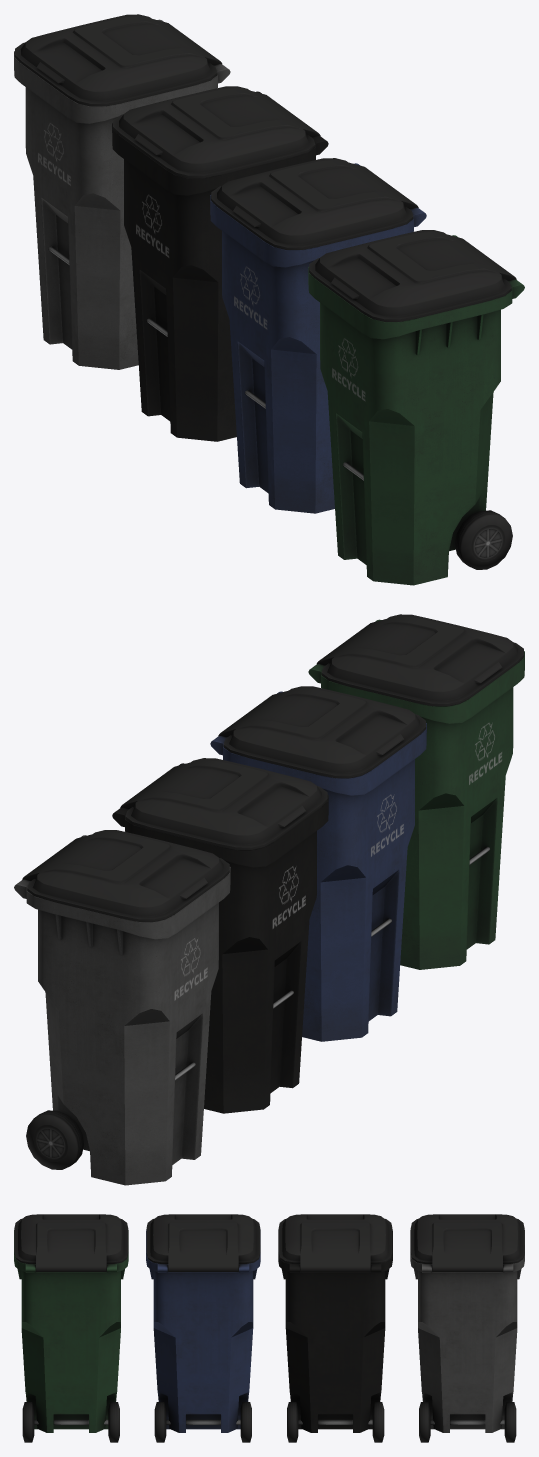
Rendered from TrashCan.fbx.
3 views of the same model, one above another, from view 1: azimuth 30°, elevation 25°; view 2: azimuth 150°, elevation 25°; view 3: azimuth 270°, elevation 25° (orthographic). The views are drawn at different scales.
Parts seen in each view (by area): view 1: TrashCan_Green, TrashCan_Grey, TrashCan_Black, TrashCan_Blue; view 2: TrashCan_Grey, TrashCan_Green, TrashCan_Blue, TrashCan_Black; view 3: TrashCan_Black, TrashCan_Blue, TrashCan_Grey, TrashCan_Green.
Boxes of the visible parts, left/top/right/bottom form: TrashCan_Green: left=308, top=230, right=524, bottom=585; TrashCan_Grey: left=14, top=14, right=230, bottom=369; TrashCan_Black: left=112, top=86, right=328, bottom=441; TrashCan_Blue: left=210, top=158, right=426, bottom=513; TrashCan_Grey: left=14, top=830, right=230, bottom=1185; TrashCan_Green: left=308, top=614, right=524, bottom=969; TrashCan_Blue: left=210, top=686, right=426, bottom=1041; TrashCan_Black: left=112, top=758, right=328, bottom=1113; TrashCan_Black: left=278, top=1214, right=392, bottom=1442; TrashCan_Blue: left=146, top=1214, right=260, bottom=1442; TrashCan_Grey: left=410, top=1214, right=524, bottom=1442; TrashCan_Green: left=14, top=1214, right=128, bottom=1442.
Bounding box in the file's own units: 60.83 × 113 × 263.
